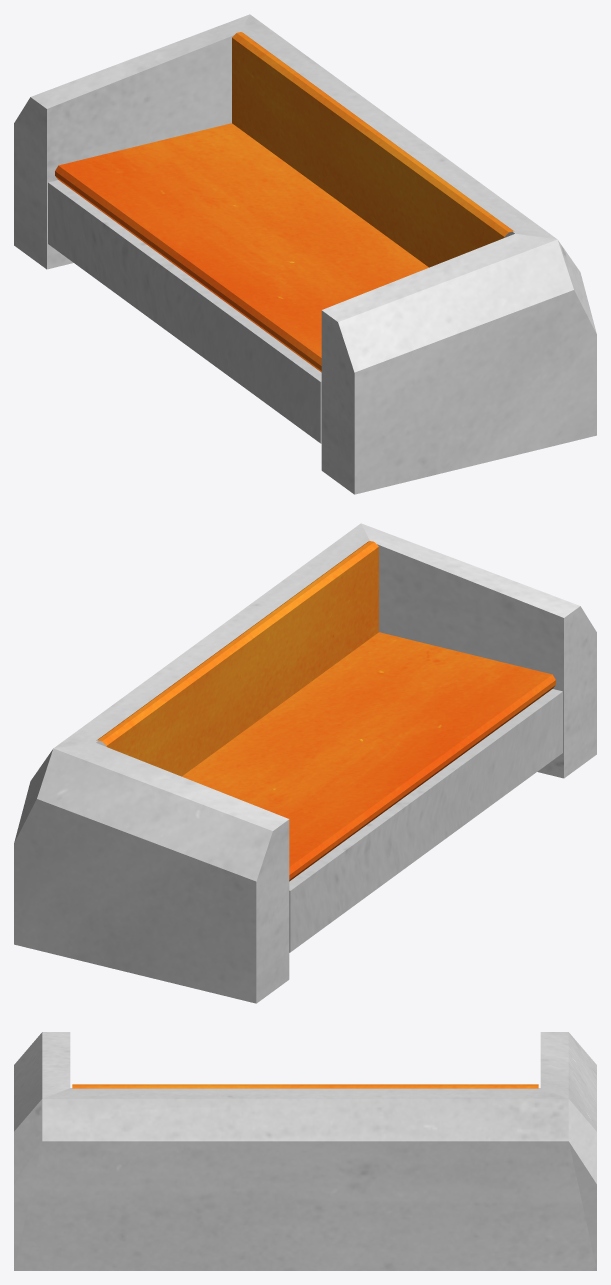
The model's file is sofa.fbx.
The picture shows the model from 3 angles, top to bottom: view 1: azimuth 30°, elevation 25°; view 2: azimuth 150°, elevation 25°; view 3: azimuth 270°, elevation 25°; orthographic projection. The views are drawn at different scales.
Visible parts, largest first — view 1: sofa; view 2: sofa; view 3: sofa.
Boxes of the visible parts, x1=… form: sofa: x1=14, y1=14, x2=596, y2=494; sofa: x1=14, y1=523, x2=596, y2=1003; sofa: x1=14, y1=1032, x2=596, y2=1270.
Size of the model in its own units: 141 by 106 by 342.
